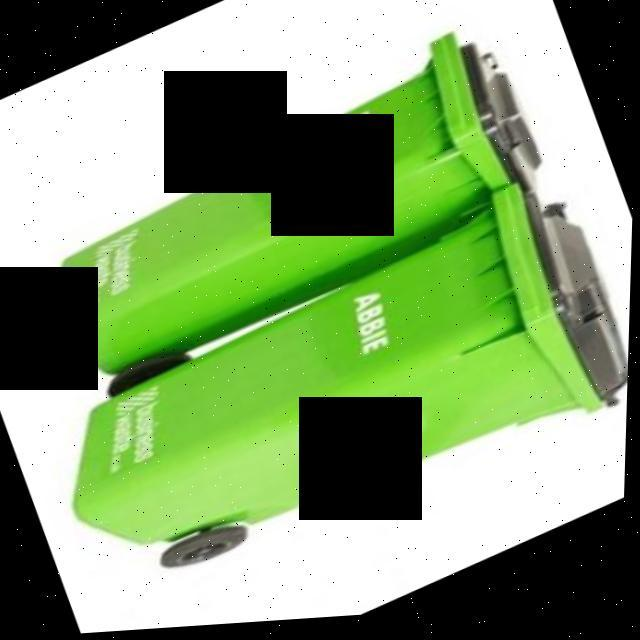bin: (15, 161, 635, 638), (0, 0, 584, 423)
